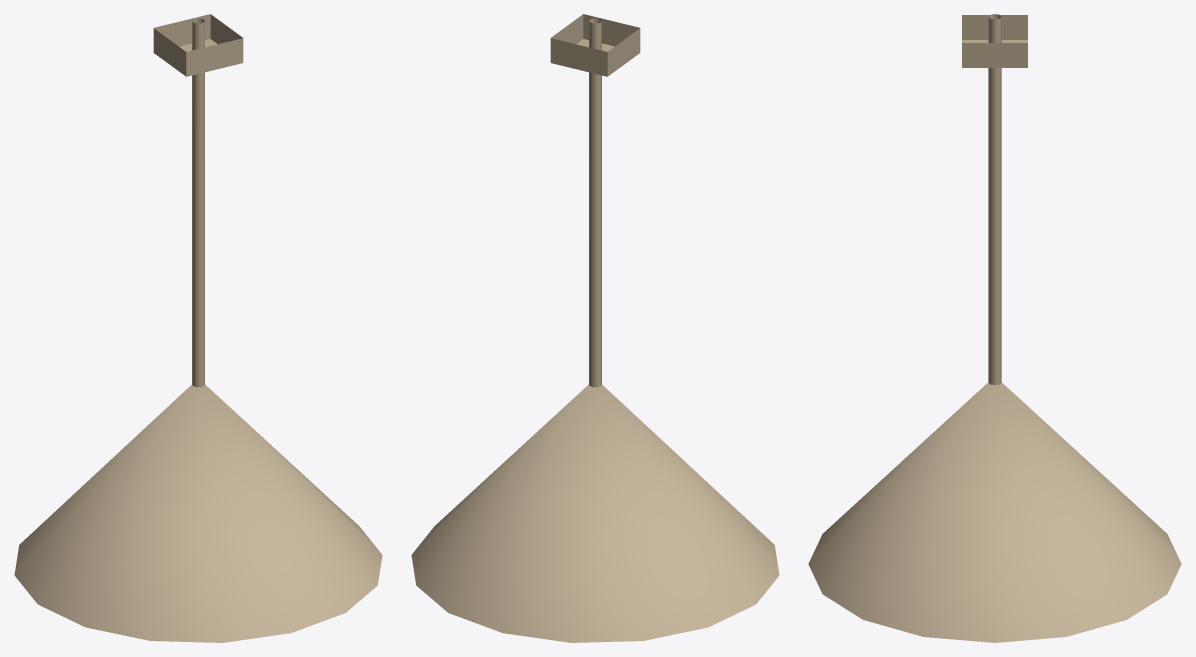
The model's file is lamp short.FBX.
3 views of the same model, side by side, from view 1: azimuth 30°, elevation 25°; view 2: azimuth 150°, elevation 25°; view 3: azimuth 270°, elevation 25° (orthographic).
Parts seen in each view (by area): view 1: Cone004, Cylinder411, Box531; view 2: Cone004, Cylinder411, Box531; view 3: Cone004, Cylinder411, Box531.
Part boxes in pixels (left/top/right/bottom): Cone004: left=14, top=384, right=382, bottom=642; Cylinder411: left=192, top=18, right=204, bottom=387; Box531: left=153, top=14, right=243, bottom=76; Cone004: left=411, top=384, right=779, bottom=642; Cylinder411: left=589, top=18, right=601, bottom=387; Box531: left=550, top=14, right=640, bottom=76; Cone004: left=808, top=382, right=1181, bottom=642; Cylinder411: left=988, top=14, right=1001, bottom=385; Box531: left=962, top=15, right=1027, bottom=67.
Size of the model in its own units: 0.6763 by 1.09 by 0.6763.
